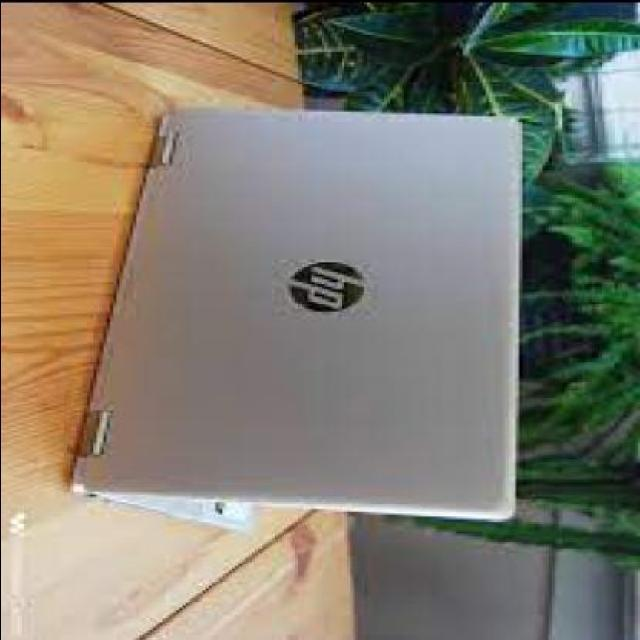laptop: (70, 102, 523, 523)
